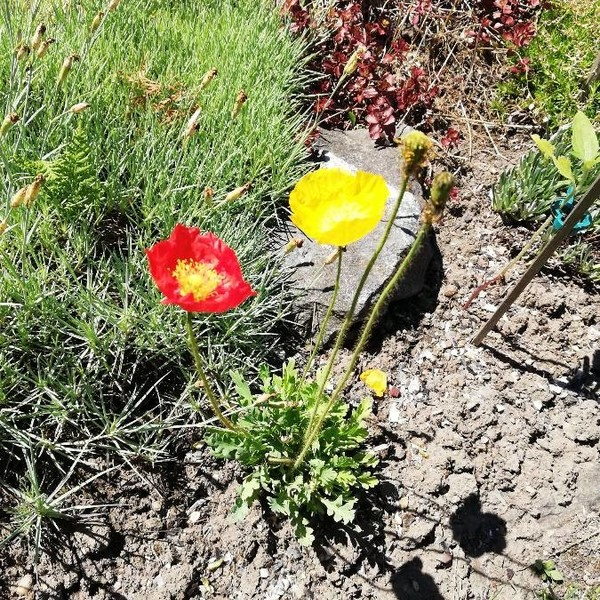obstacle: (165, 150, 400, 478), (47, 21, 263, 180)
